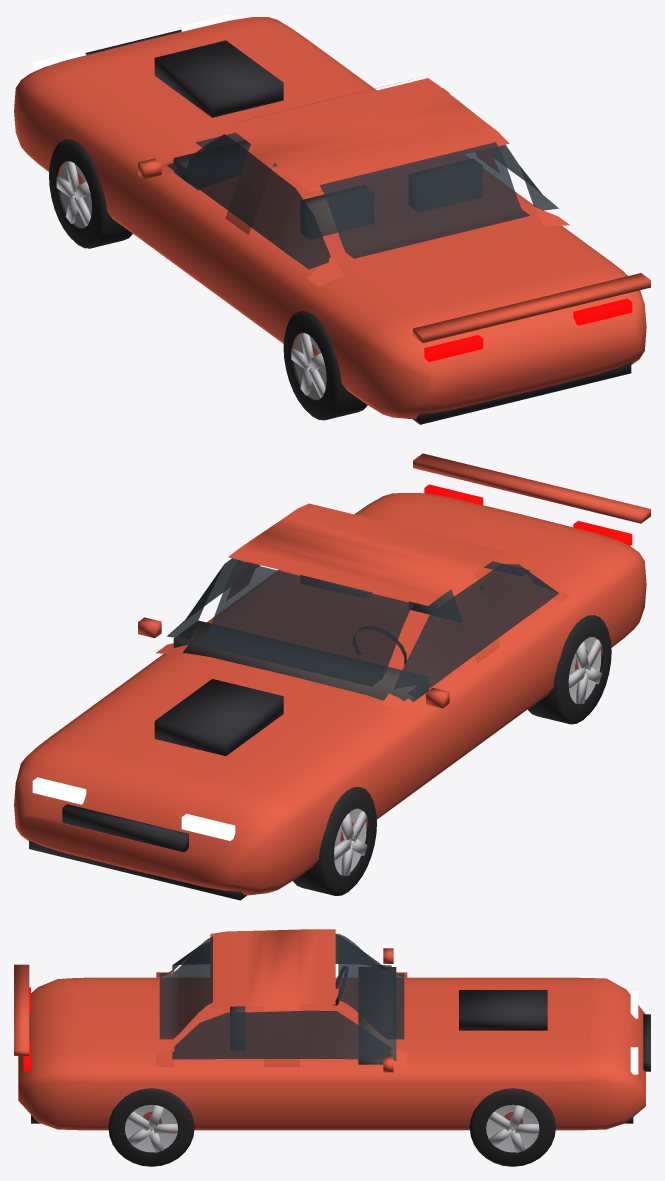
Rendered from car03_ironhorse.glb.
3 views of the same model, one above another, from view 1: azimuth 30°, elevation 25°; view 2: azimuth 150°, elevation 25°; view 3: azimuth 270°, elevation 25° (orthographic). The views are drawn at different scales.
Visible parts, largest first — view 1: car03_ironhorse_Body, car03_ironhorse_Cabin, car03_ironhorse_GlassRear, car03_ironhorse_Glass, car03_ironhorse_Interior, car03_ironhorse_Wheel_FL, car03_ironhorse_Wheel_RL, car03_ironhorse_Lights_Rear, car03_ironhorse_Lights_Front; view 2: car03_ironhorse_Body, car03_ironhorse_Cabin, car03_ironhorse_GlassFront, car03_ironhorse_Glass, car03_ironhorse_Interior, car03_ironhorse_Wheel_RL, car03_ironhorse_Wheel_FL, car03_ironhorse_Lights_Front, car03_ironhorse_Lights_Rear; view 3: car03_ironhorse_Body, car03_ironhorse_Cabin, car03_ironhorse_Glass, car03_ironhorse_Wheel_FR, car03_ironhorse_Wheel_RR, car03_ironhorse_GlassFront, car03_ironhorse_Interior, car03_ironhorse_GlassRear, car03_ironhorse_Lights_Front.
Boxes of the visible parts, <box> form: car03_ironhorse_Body: <box>14,17,650,424</box>; car03_ironhorse_Cabin: <box>161,78,569,286</box>; car03_ironhorse_GlassRear: <box>319,142,530,258</box>; car03_ironhorse_Glass: <box>166,134,558,269</box>; car03_ironhorse_Interior: <box>173,140,482,239</box>; car03_ironhorse_Wheel_FL: <box>49,139,132,248</box>; car03_ironhorse_Wheel_RL: <box>283,311,367,420</box>; car03_ironhorse_Lights_Rear: <box>424,298,632,361</box>; car03_ironhorse_Lights_Front: <box>32,14,235,71</box>; car03_ironhorse_Body: <box>14,453,650,900</box>; car03_ironhorse_Cabin: <box>155,503,569,714</box>; car03_ironhorse_GlassFront: <box>195,561,413,686</box>; car03_ironhorse_Glass: <box>167,558,558,697</box>; car03_ironhorse_Interior: <box>173,575,482,701</box>; car03_ironhorse_Wheel_RL: <box>527,615,611,724</box>; car03_ironhorse_Wheel_FL: <box>293,787,376,895</box>; car03_ironhorse_Lights_Front: <box>32,777,235,840</box>; car03_ironhorse_Lights_Rear: <box>424,484,632,545</box>; car03_ironhorse_Body: <box>14,948,650,1130</box>; car03_ironhorse_Cabin: <box>156,929,407,1066</box>; car03_ironhorse_Glass: <box>172,933,391,1059</box>; car03_ironhorse_Wheel_FR: <box>469,1088,555,1166</box>; car03_ironhorse_Wheel_RR: <box>108,1088,194,1166</box>; car03_ironhorse_GlassFront: <box>338,933,404,1039</box>; car03_ironhorse_Interior: <box>230,967,396,1064</box>; car03_ironhorse_GlassRear: <box>159,936,212,1039</box>; car03_ironhorse_Lights_Front: <box>630,991,638,1074</box>.
Size of what is drawn, in the model's own units: 2.14 by 1.3 by 5.03.
